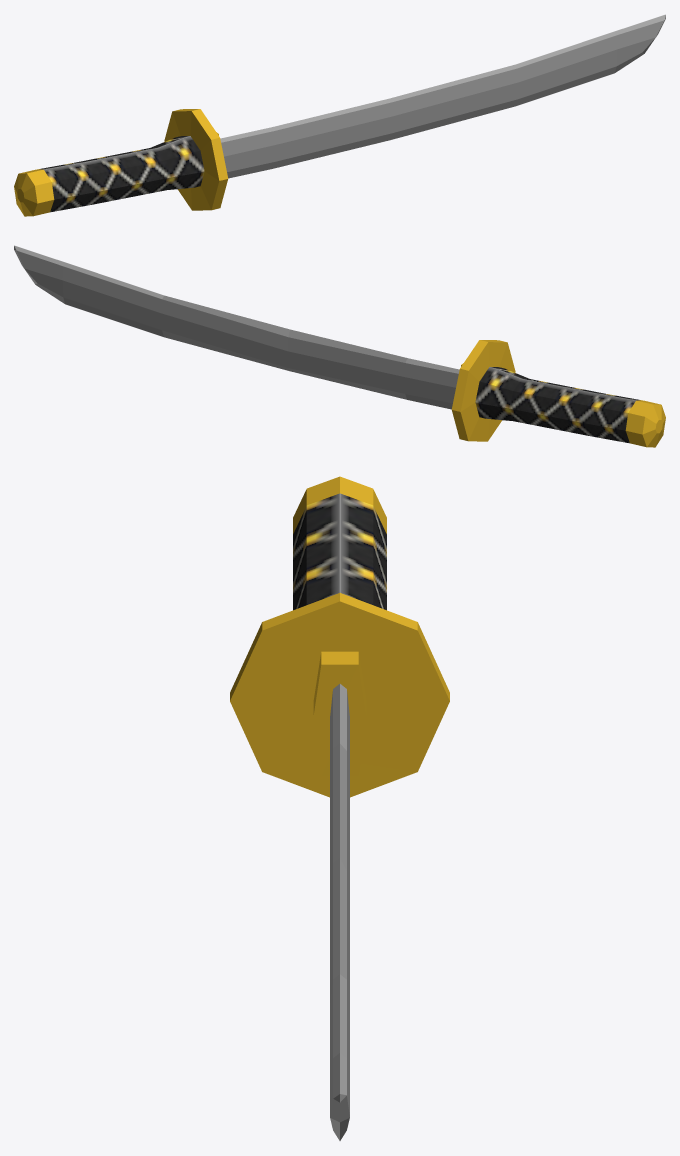
Rendered from Medium Sword.fbx.
3 renders of one model, top to bottom at view 1: azimuth 30°, elevation 25°; view 2: azimuth 150°, elevation 25°; view 3: azimuth 270°, elevation 25°, orthographic. The views are drawn at different scales.
Parts seen in each view (by area): view 1: WAKIZASHI; view 2: WAKIZASHI; view 3: WAKIZASHI.
Part boxes in pixels (left/top/right/bottom): WAKIZASHI: left=14, top=14, right=665, bottom=216; WAKIZASHI: left=14, top=245, right=665, bottom=447; WAKIZASHI: left=230, top=476, right=449, bottom=1140.
Size of the model in its own units: 62.65 by 9.25 by 9.25.
